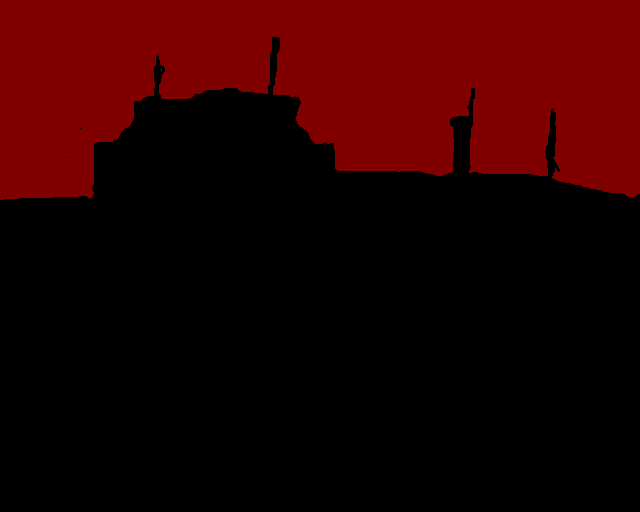Sky: (1, 1, 639, 200)
